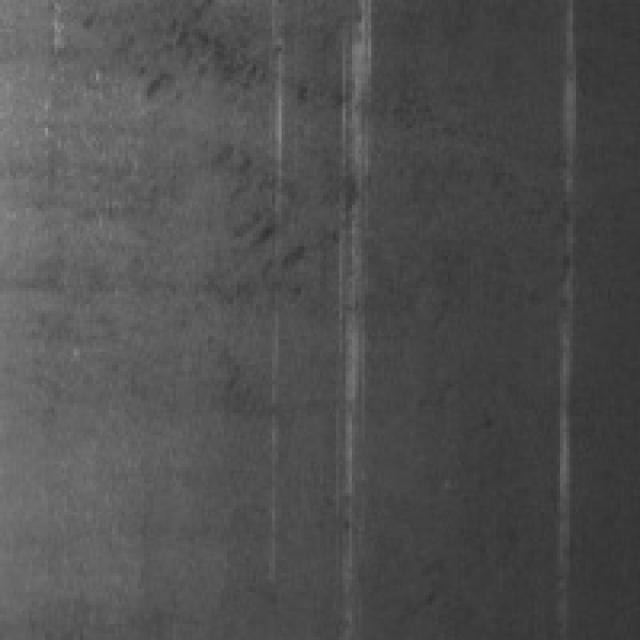scratches: (326, 0, 368, 592), (547, 0, 576, 614)
